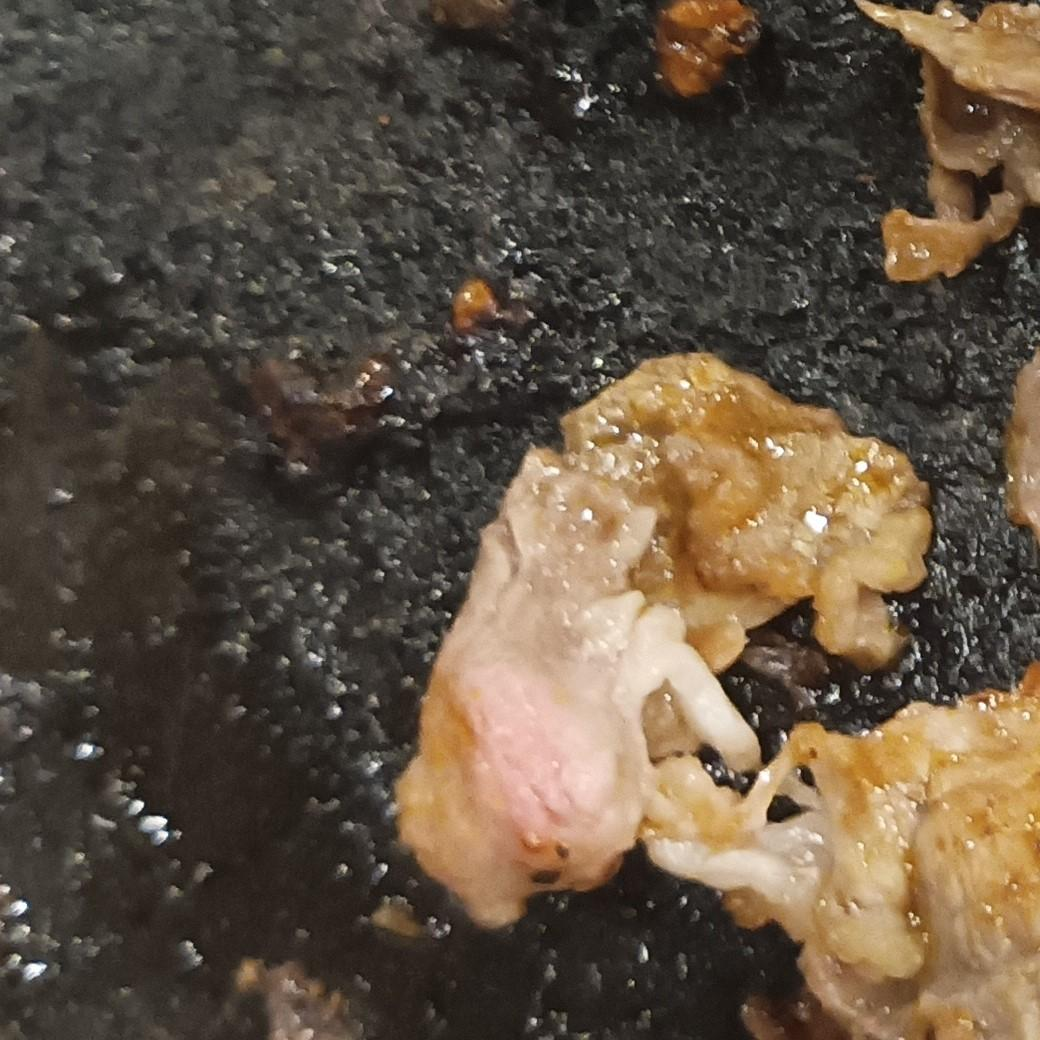Undercooked: (393, 354, 936, 931)
Well-Cooked: (640, 665, 1039, 1039), (851, 0, 1039, 302)
